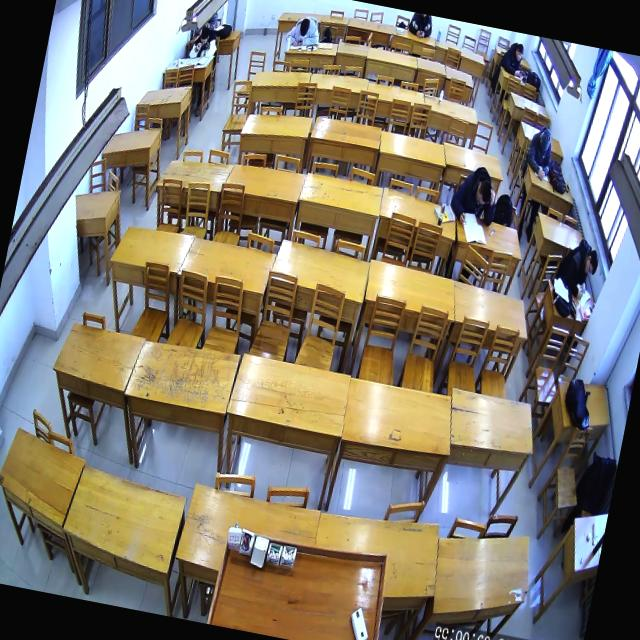bow: (447, 162, 503, 230), (285, 12, 323, 49)
down: (474, 179, 494, 208), (584, 250, 600, 278), (538, 128, 553, 152), (298, 18, 311, 38), (514, 42, 526, 62), (199, 27, 211, 46)
sit: (555, 236, 602, 302), (524, 126, 557, 182), (188, 24, 222, 62), (499, 40, 528, 78), (534, 166, 551, 182)
